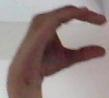C: (1, 0, 109, 98)
